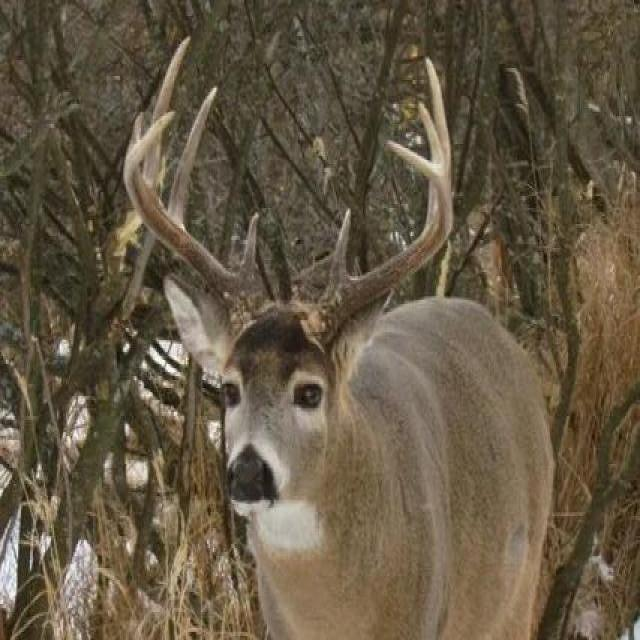deer: (111, 85, 562, 640)
